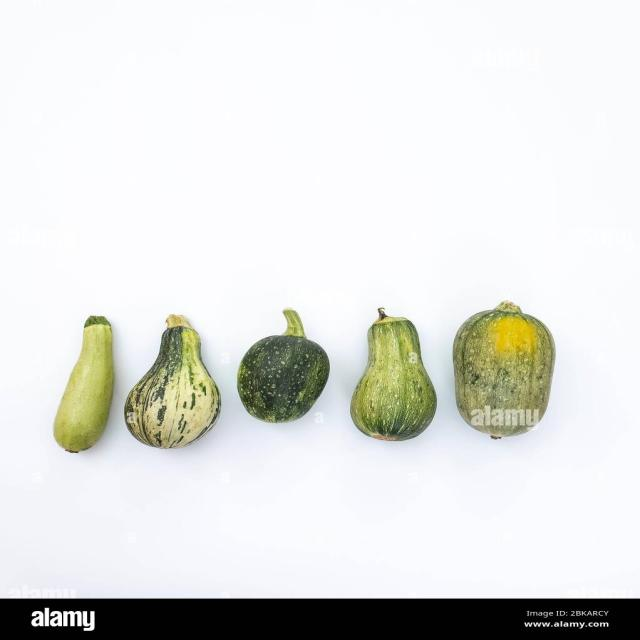Zucchini: (48, 310, 123, 469)
